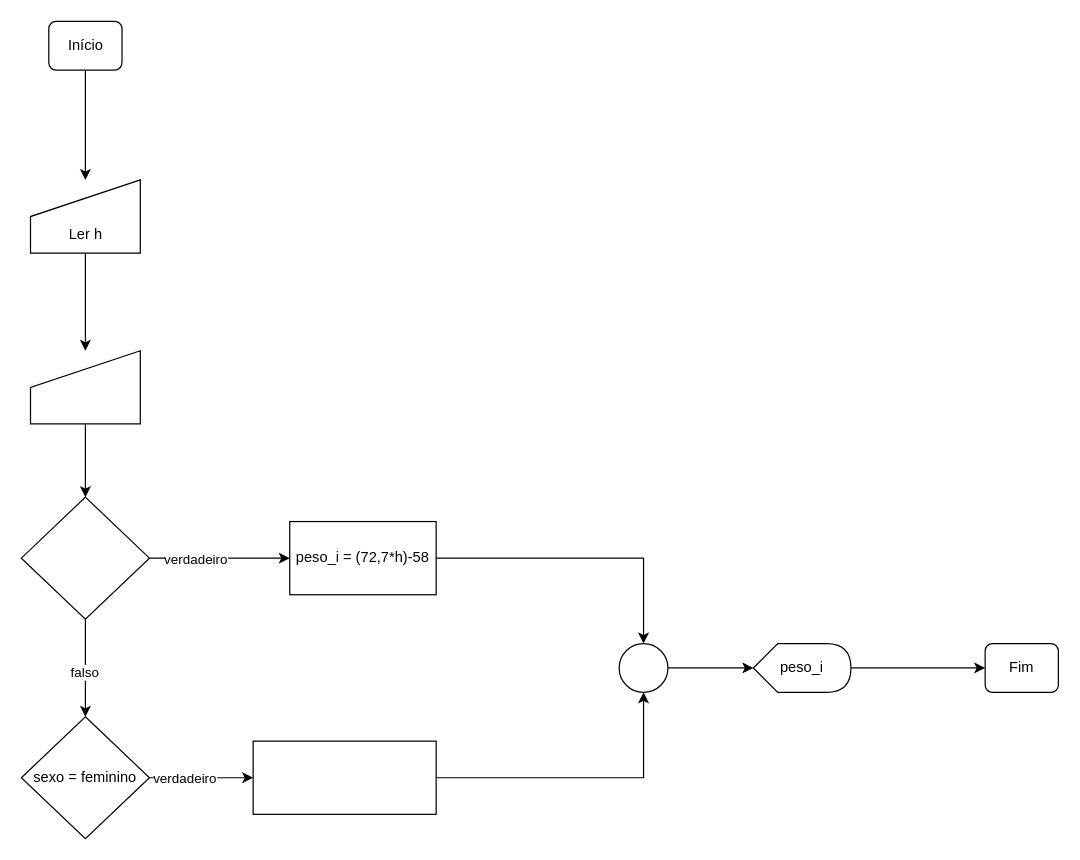
This 1080x860 diagram has some shape labels left out. The shapes that lost their labels are listed below. From the top down, each one's box as (x1, y1, x2, y2) in pixels, then its label:
(29, 350, 140, 424): Ler sexo
(20, 496, 149, 619): sexo = masculino
(252, 740, 436, 814): peso_i = (62,1*h)-44,7
